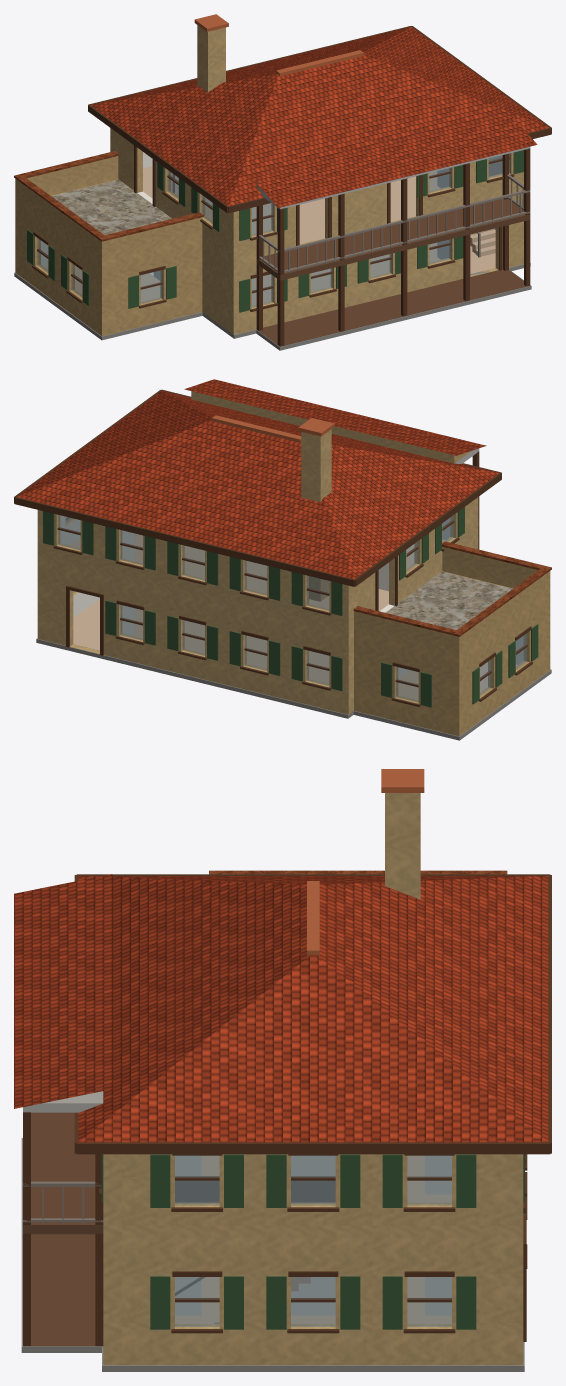
The model's file is cr-hacienda.towns-v1.lod0.glb.
The picture shows the model from 3 angles, top to bottom: view 1: azimuth 30°, elevation 25°; view 2: azimuth 150°, elevation 25°; view 3: azimuth 270°, elevation 25°; orthographic projection. The views are drawn at different scales.
Visible parts, largest first — view 1: cr-hacienda; view 2: cr-hacienda; view 3: cr-hacienda.
Part boxes in pixels (x1,y1,x2,y2): cr-hacienda: (14,14,551,350); cr-hacienda: (14,379,551,740); cr-hacienda: (14,769,551,1371).
Size of the model in its own units: 18.13 by 9.94 by 12.04.
Materials: 7 (3 with a texture image).
